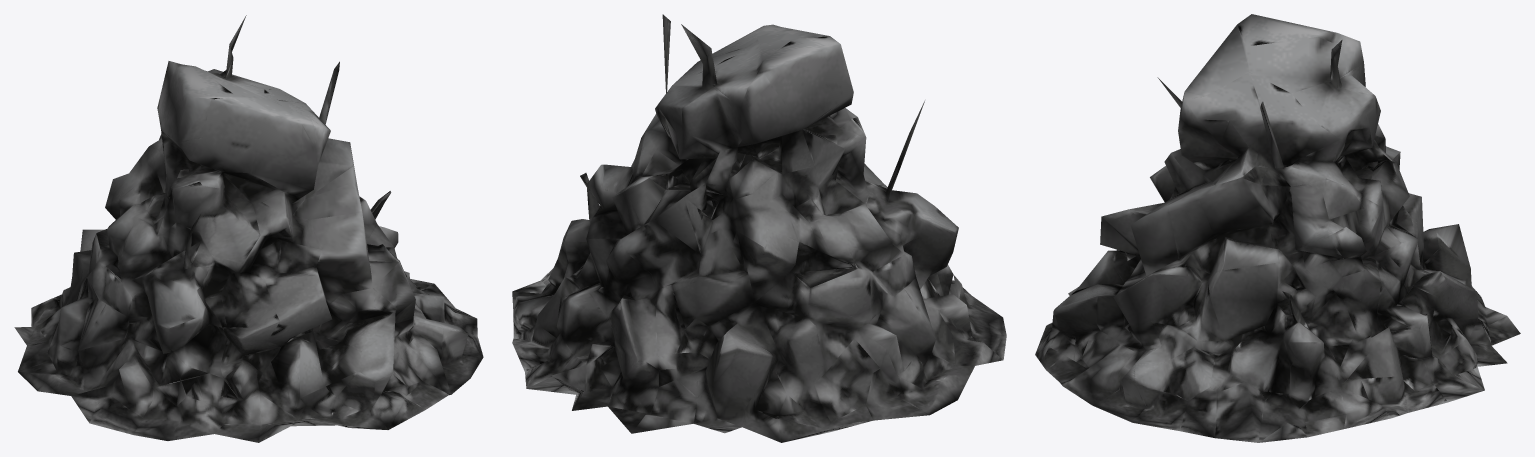
The model's file is rubble_pile.glb.
3 renders of one model, left to right at view 1: azimuth 30°, elevation 25°; view 2: azimuth 150°, elevation 25°; view 3: azimuth 270°, elevation 25°, orthographic. The views are drawn at different scales.
Size of the model in its own units: 1.94 by 1.41 by 1.95.
1 material, 1 textured.
